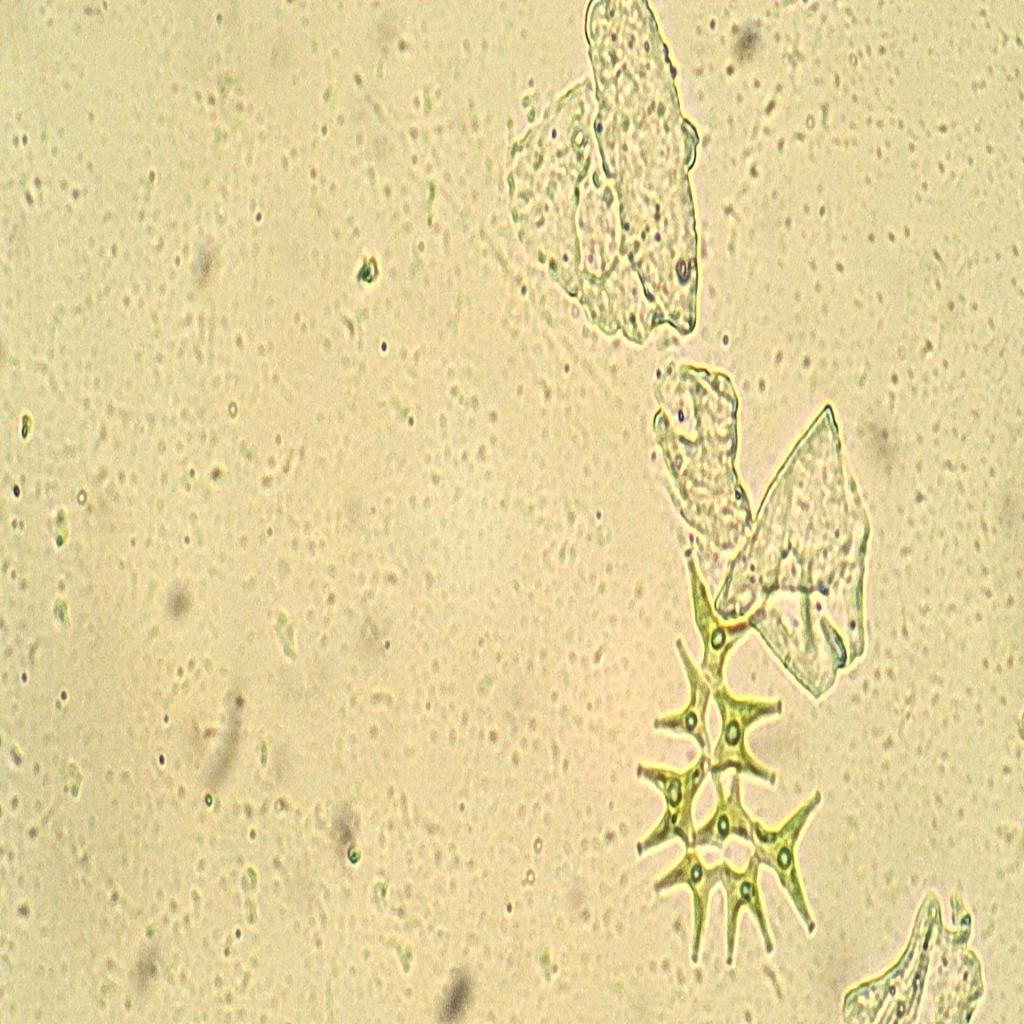Pediastrum_1TH: (622, 542, 844, 992)
